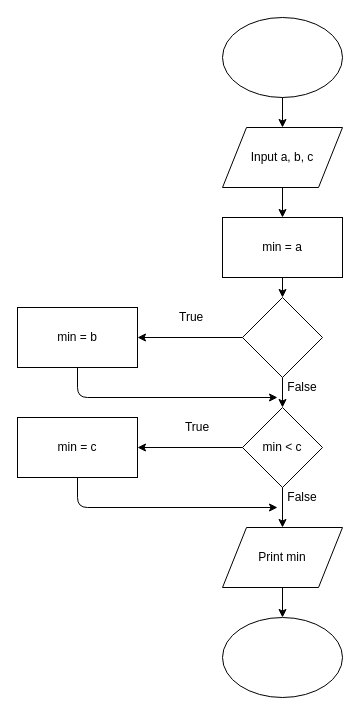
The diagram is 360 pixels wide and 715 high, and some of its shapes have lost their labels. The shapes that lost their labels are listed below. From the top down, each one's centre as x and y in pixels, then its label:
At [282,57]: "Start".
At [282,337]: "min < b".
At [282,657]: "End".
